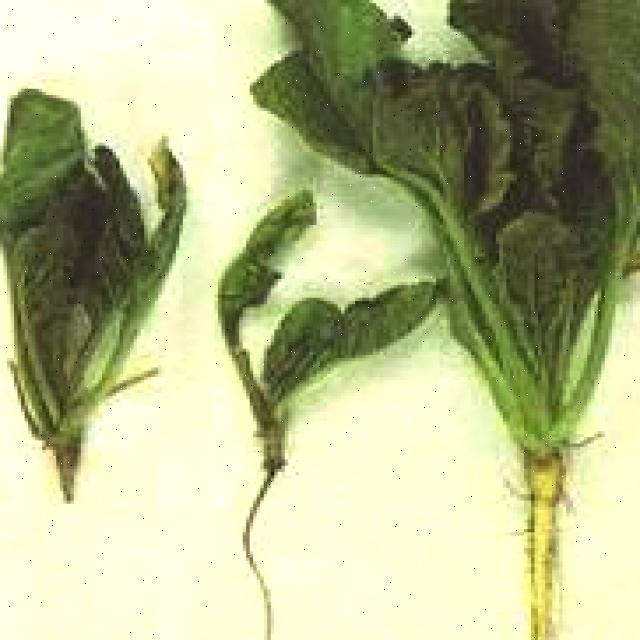rotten spinach: (253, 0, 640, 602), (0, 73, 201, 529), (198, 182, 436, 552)
